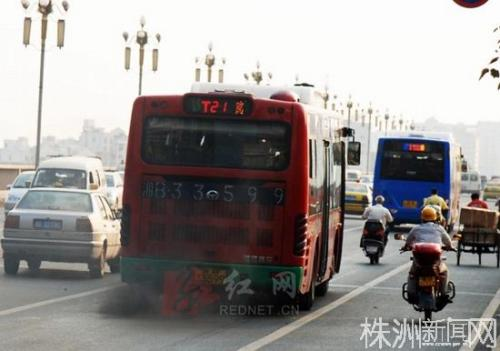smoke: (92, 267, 160, 323)
